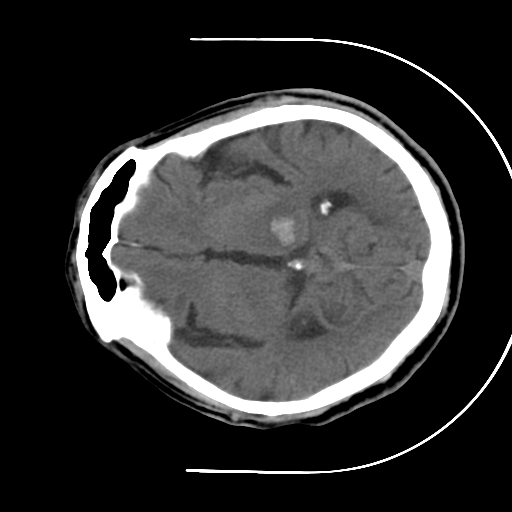a: (230, 192, 318, 260)
